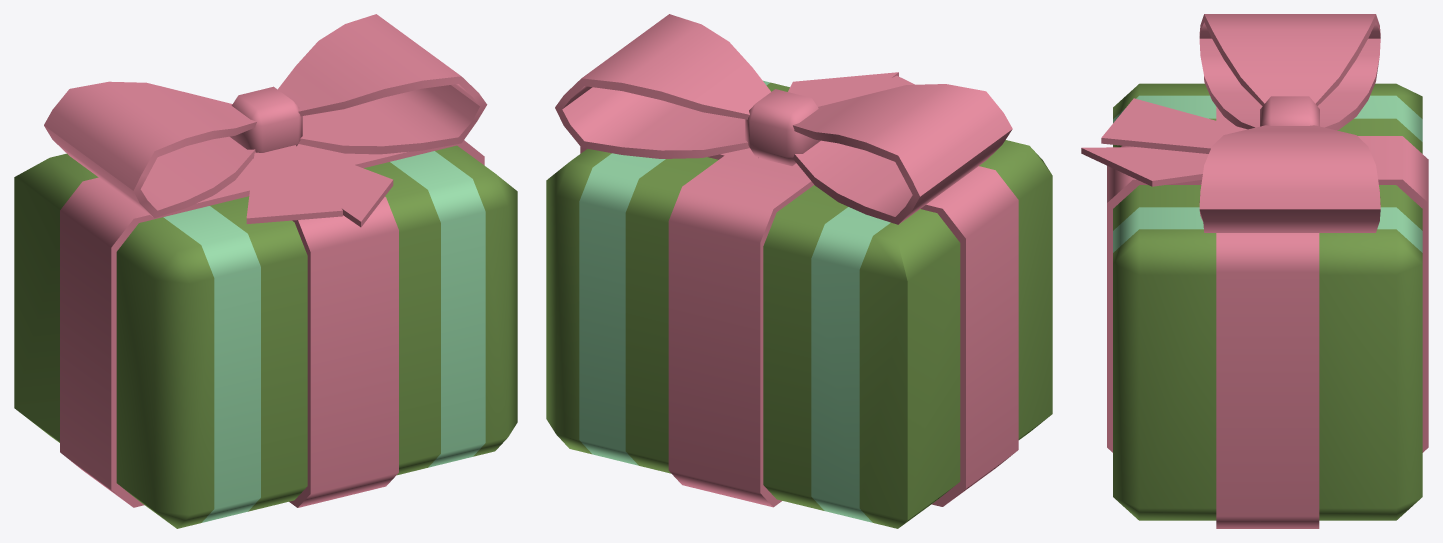
File: Gift_7_231109.glb
3 renders of one model, left to right at view 1: azimuth 30°, elevation 25°; view 2: azimuth 150°, elevation 25°; view 3: azimuth 270°, elevation 25°, orthographic. The views are drawn at different scales.
Visible parts, largest first — view 1: Gift_7; view 2: Gift_7; view 3: Gift_7.
Boxes of the visible parts, <box> form: Gift_7: <box>14,14,517,528</box>; Gift_7: <box>546,14,1052,528</box>; Gift_7: <box>1081,14,1428,528</box>.
Bounding box in the file's own units: 0.4165 × 0.3823 × 0.3325.
1 material, 1 textured.
